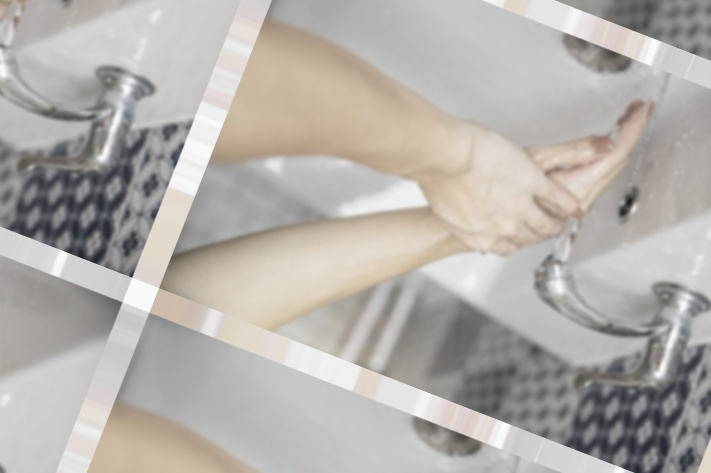washing hand: (295, 0, 710, 463)
